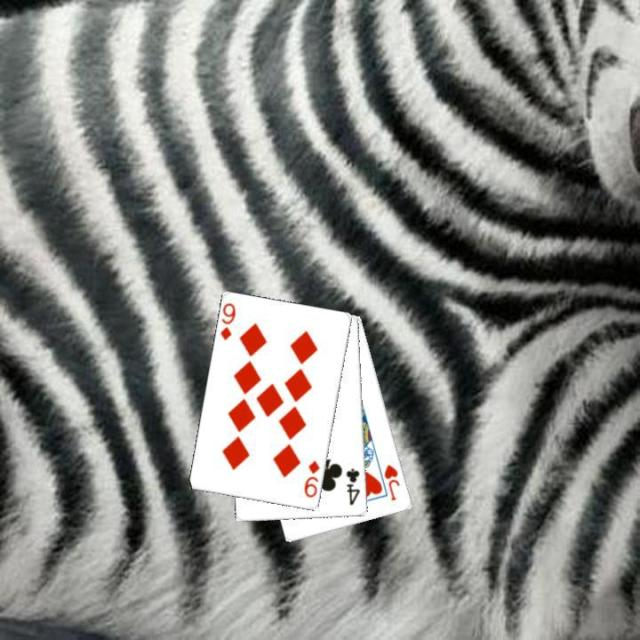4C: (342, 465, 362, 507)
9D: (300, 457, 322, 499), (217, 299, 237, 342)
JH: (380, 460, 402, 502)
